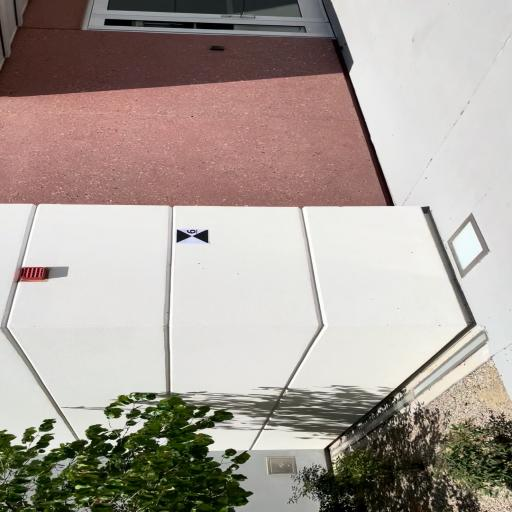target6: (176, 228, 210, 244)
